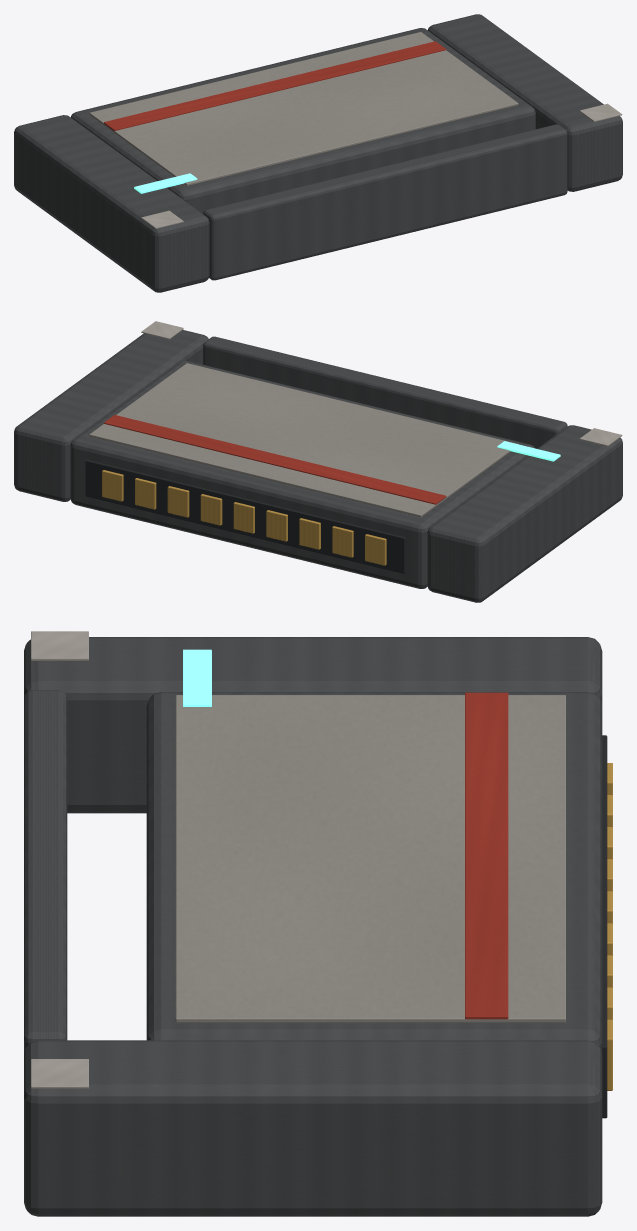
Rendered from data_cartridge.glb.
3 views of the same model, one above another, from view 1: azimuth 30°, elevation 25°; view 2: azimuth 150°, elevation 25°; view 3: azimuth 270°, elevation 25° (orthographic). The views are drawn at different scales.
Visible parts, largest first — view 1: label_inset, grip_crossbar, side_guide, main_shell, side_guide_02, label_red_stripe, status_light, corner_cap, corner_cap_02; view 2: label_inset, side_guide, main_shell, side_guide_02, grip_crossbar, contact_recess, label_red_stripe, contact_pad_05, contact_pad_06, contact_pad_02, contact_pad_03, contact_pad_07 (+7 smaller); view 3: label_inset, side_guide_02, side_guide, main_shell, grip_crossbar, label_red_stripe, contact_recess, corner_cap, corner_cap_02, status_light.
Boxes of the visible parts, box(x1,y1,x2,y2) form: label_inset: box(89, 32, 518, 185); grip_crossbar: box(203, 124, 567, 280); side_guide: box(14, 115, 209, 292); main_shell: box(71, 28, 535, 213); side_guide_02: box(427, 14, 622, 191); label_red_stripe: box(104, 41, 446, 130); status_light: box(134, 173, 197, 193); corner_cap: box(141, 210, 183, 228); corner_cap_02: box(579, 103, 622, 121); label_inset: box(89, 363, 518, 517); side_guide: box(427, 425, 622, 602); main_shell: box(70, 360, 534, 588); side_guide_02: box(14, 330, 208, 501); grip_crossbar: box(203, 336, 567, 448); contact_recess: box(85, 459, 405, 573); label_red_stripe: box(104, 415, 446, 504); contact_pad_05: box(200, 494, 222, 525); contact_pad_06: box(167, 486, 189, 517); contact_pad_02: box(299, 518, 320, 549); contact_pad_03: box(266, 510, 287, 541); contact_pad_07: box(135, 478, 156, 509); label_inset: box(175, 695, 565, 1022); side_guide_02: box(24, 1040, 602, 1216); side_guide: box(24, 637, 602, 813); main_shell: box(146, 692, 602, 1053); grip_crossbar: box(24, 690, 67, 1053); label_red_stripe: box(465, 692, 508, 1019); contact_recess: box(602, 735, 607, 1118); corner_cap: box(31, 631, 88, 660); corner_cap_02: box(31, 1059, 88, 1088); status_light: box(183, 649, 211, 706).
Bounding box in the file's own units: 0.15 × 0.0211 × 0.0815.
7 materials, 6 textured.
